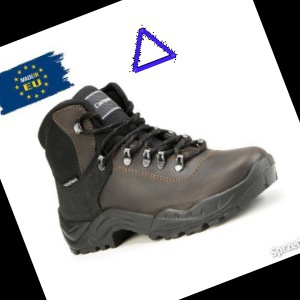triangle: (127, 26, 177, 75)
